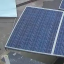Solar Panel: (9, 7, 62, 54)
